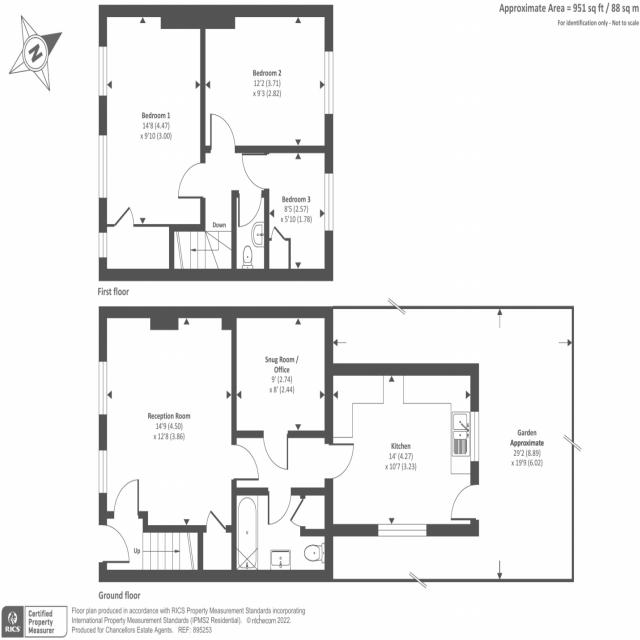DOOR: (98, 523, 130, 564), (324, 441, 355, 480), (208, 112, 236, 154), (241, 152, 270, 191), (231, 442, 260, 481), (450, 483, 479, 521), (113, 478, 139, 519), (263, 430, 289, 471), (177, 162, 205, 199), (267, 487, 292, 526), (238, 190, 263, 228), (113, 206, 134, 227)
ROOM: (98, 306, 260, 534), (324, 362, 479, 537), (98, 4, 206, 232), (200, 4, 334, 154), (231, 306, 334, 471), (241, 145, 334, 282)
WINDOW: (377, 523, 427, 537), (324, 49, 334, 116), (98, 134, 108, 200), (324, 172, 334, 232), (98, 361, 107, 416), (470, 411, 479, 463), (98, 46, 107, 97), (98, 450, 107, 494), (98, 231, 108, 259)
